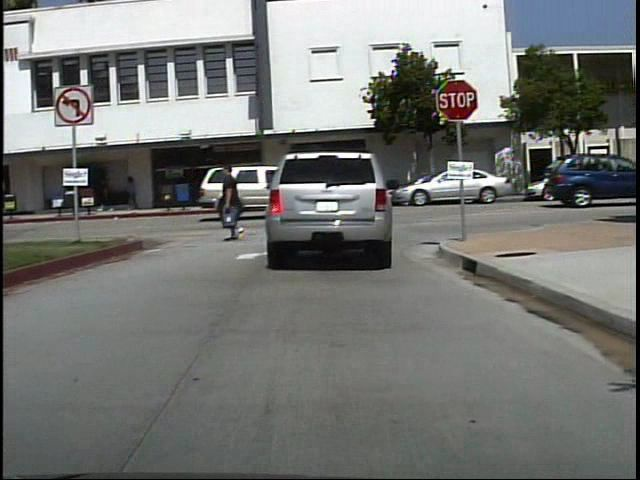person: (216, 160, 254, 244), (96, 171, 119, 210), (127, 172, 145, 211)
